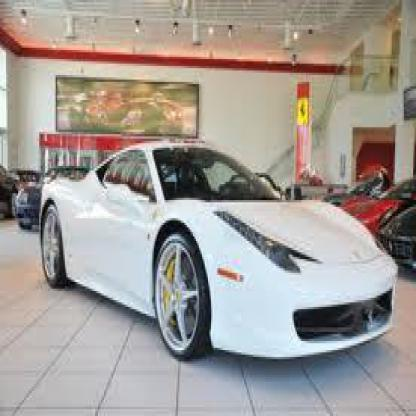Vehicle: (41, 138, 399, 364)
